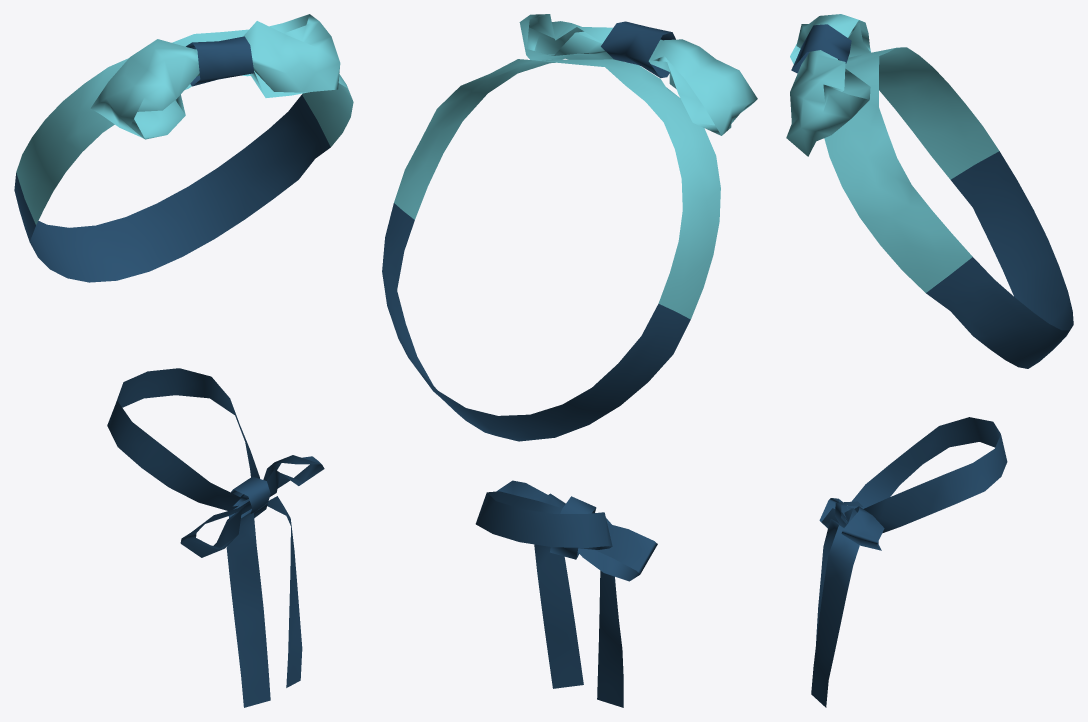
File: uploads_files_4550122_리본둘.fbx
The picture shows the model from 3 angles, left to right: view 1: azimuth 30°, elevation 25°; view 2: azimuth 150°, elevation 25°; view 3: azimuth 270°, elevation 25°; orthographic projection. The views are drawn at different scales.
Bounding box in the file's own units: 192 × 432 × 176.
